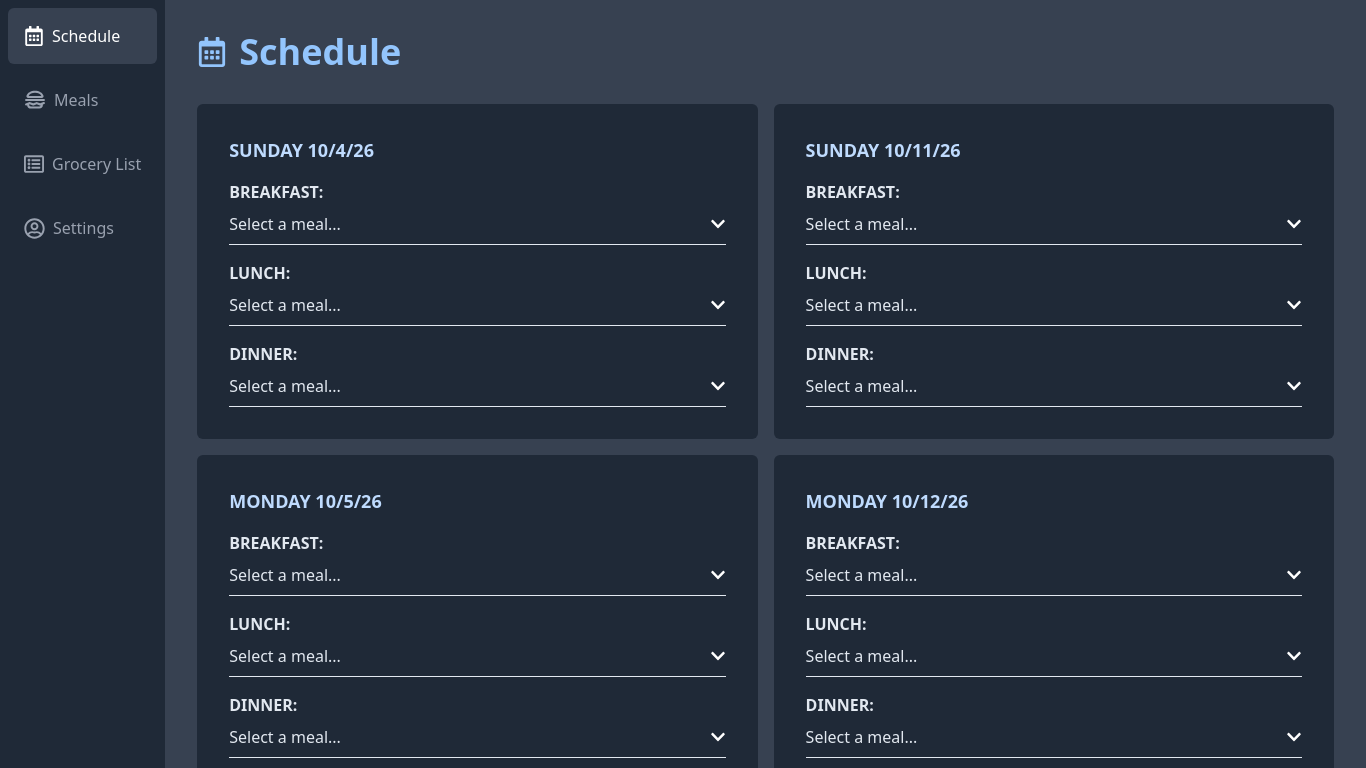
Test: App Component › when user is logged in › Settings link renders Settings Page
Click the link "Settings": (69, 228) [24, 217, 114, 239]
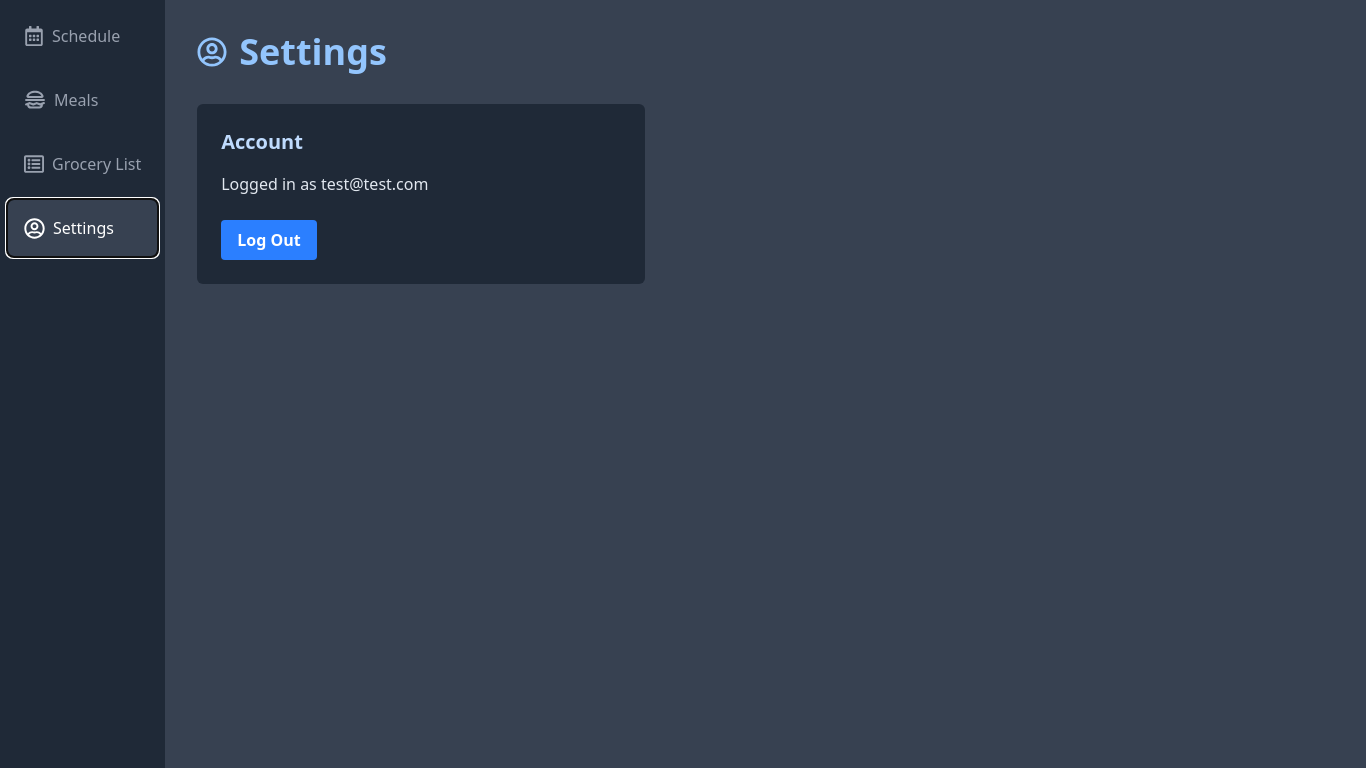
Expected: the heading "Settings" is shown, [197, 27, 387, 76]
